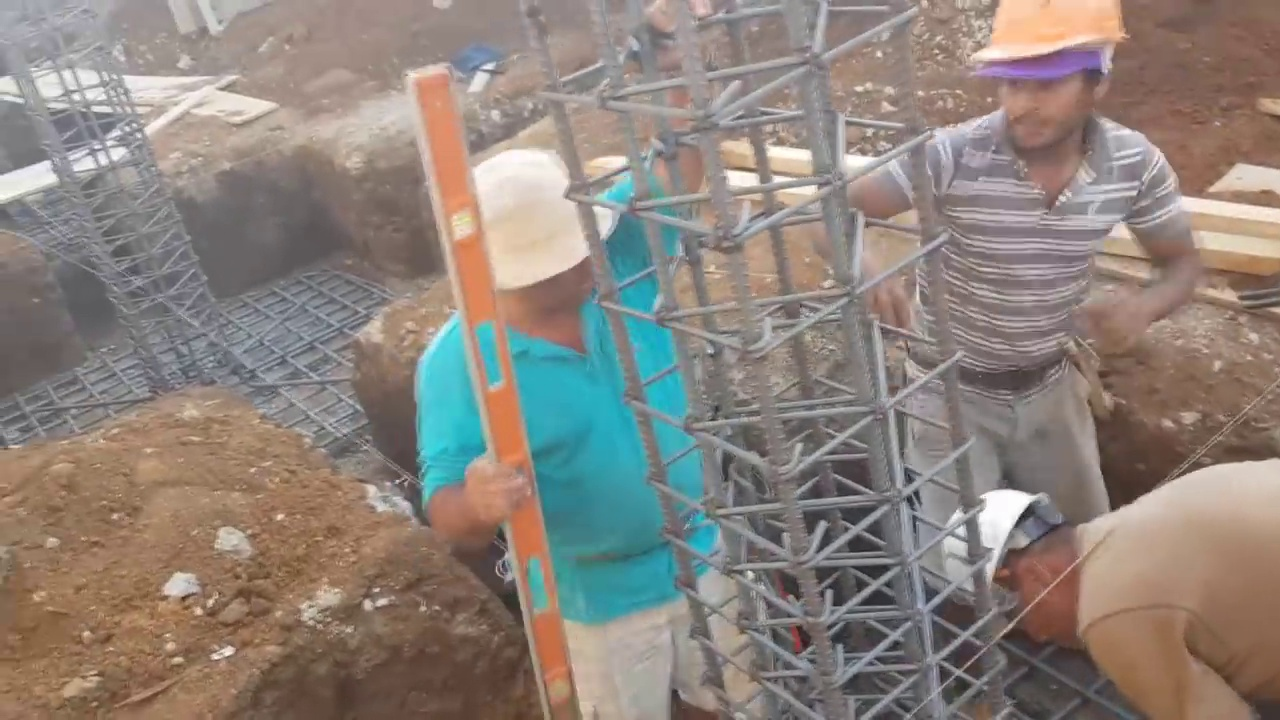helmet: (940, 484, 1047, 615), (970, 0, 1131, 80)
helmet-off: (448, 141, 593, 350)
helmet-on: (971, 0, 1130, 171), (941, 478, 1090, 659)
person: (758, 0, 1197, 599), (418, 2, 778, 719), (938, 476, 1280, 720)
